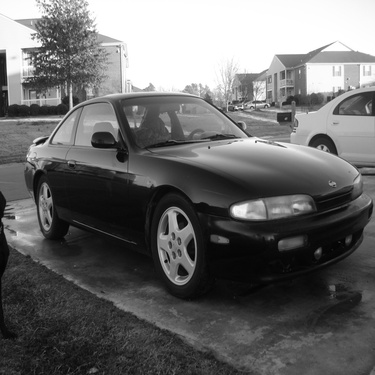car: (22, 90, 374, 288), (288, 80, 375, 163)
